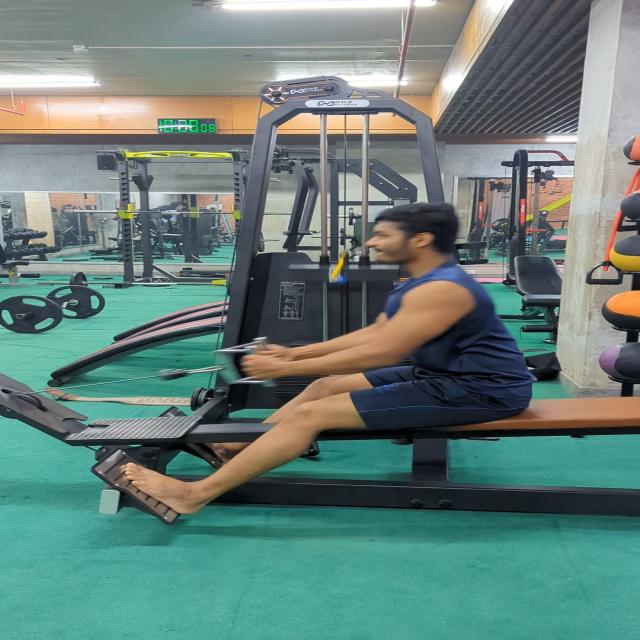Normal_RowingMachineExercise: (116, 199, 537, 517)
